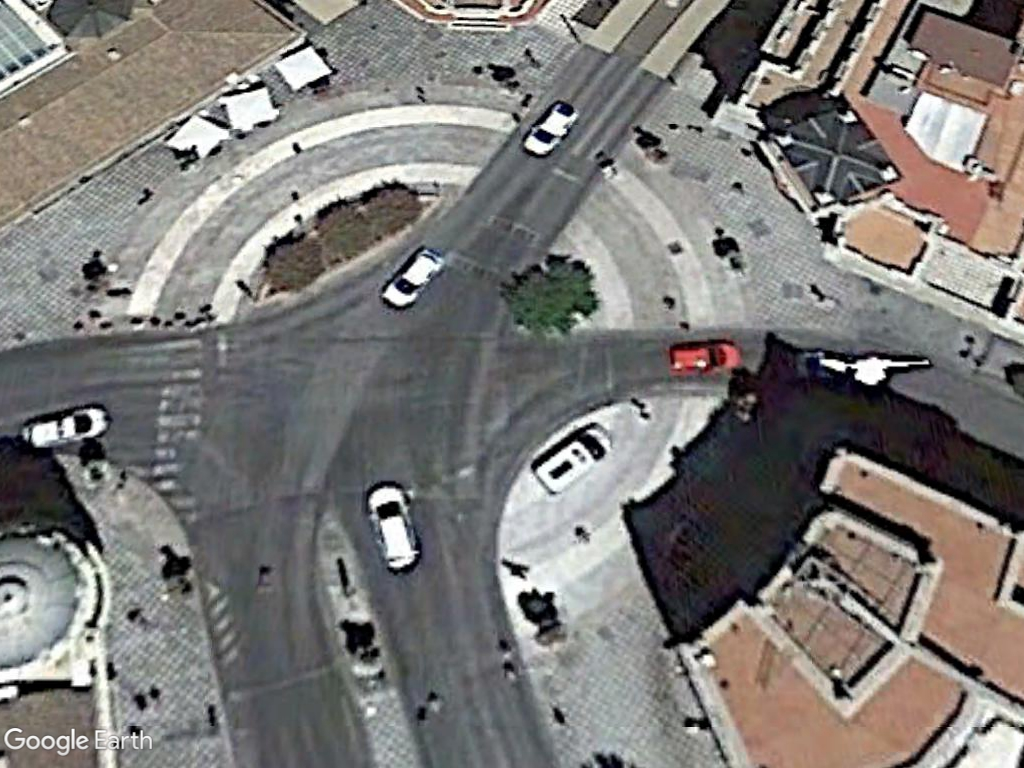car: (358, 475, 422, 576), (372, 246, 453, 313), (517, 93, 585, 164), (13, 402, 115, 448), (666, 335, 745, 377)
van: (527, 416, 614, 498)
